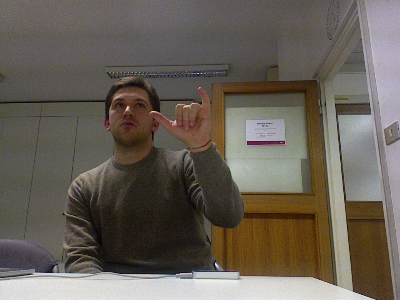六六六: (147, 84, 213, 150)
